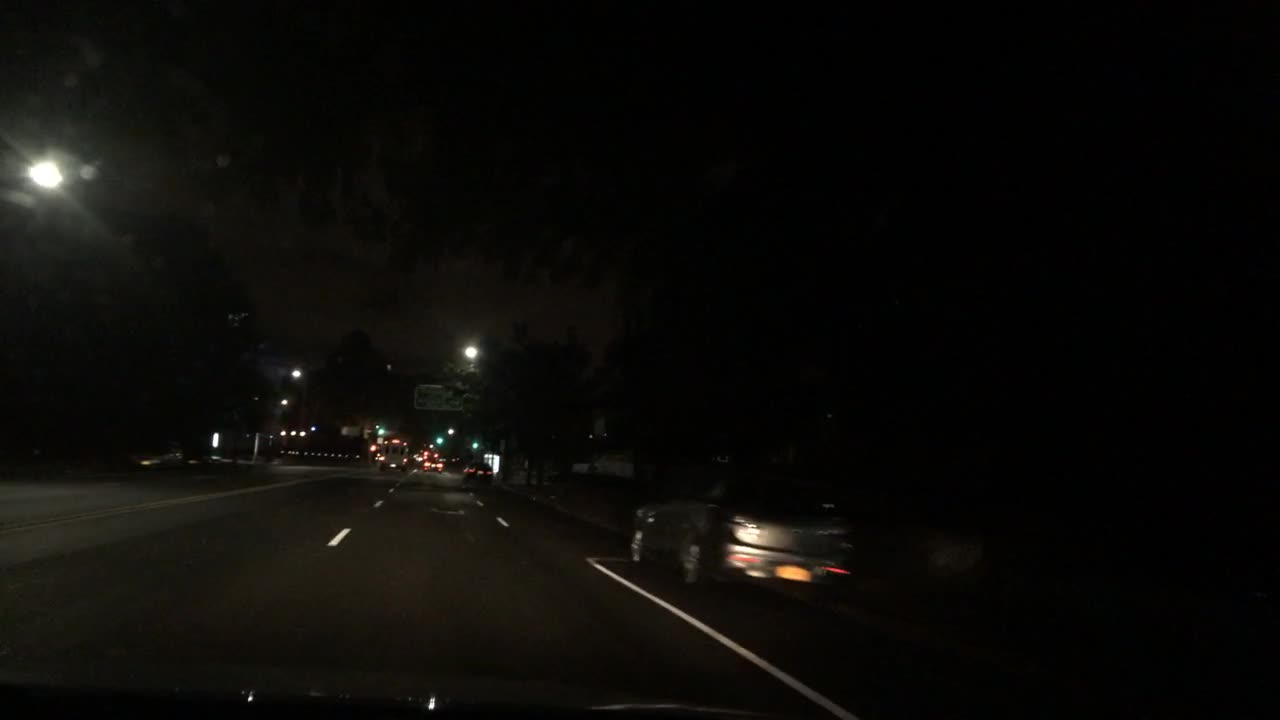bus: (378, 437, 408, 474)
car: (627, 461, 859, 604), (126, 435, 189, 471), (182, 439, 214, 468), (460, 461, 494, 486), (418, 450, 444, 474)
traffic light: (374, 418, 386, 435), (469, 434, 479, 450), (435, 428, 444, 445)
traffic sign: (411, 380, 462, 413), (341, 422, 363, 437)
